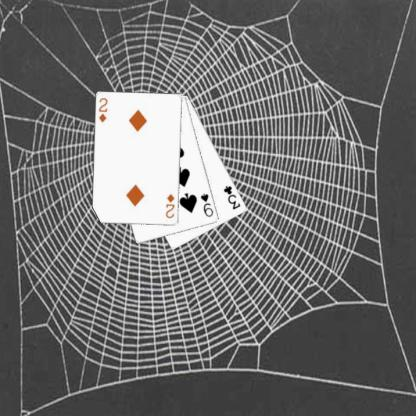2D: (163, 192, 176, 220), (96, 95, 109, 123)
3C: (221, 183, 242, 211)
9S: (198, 190, 215, 218)
